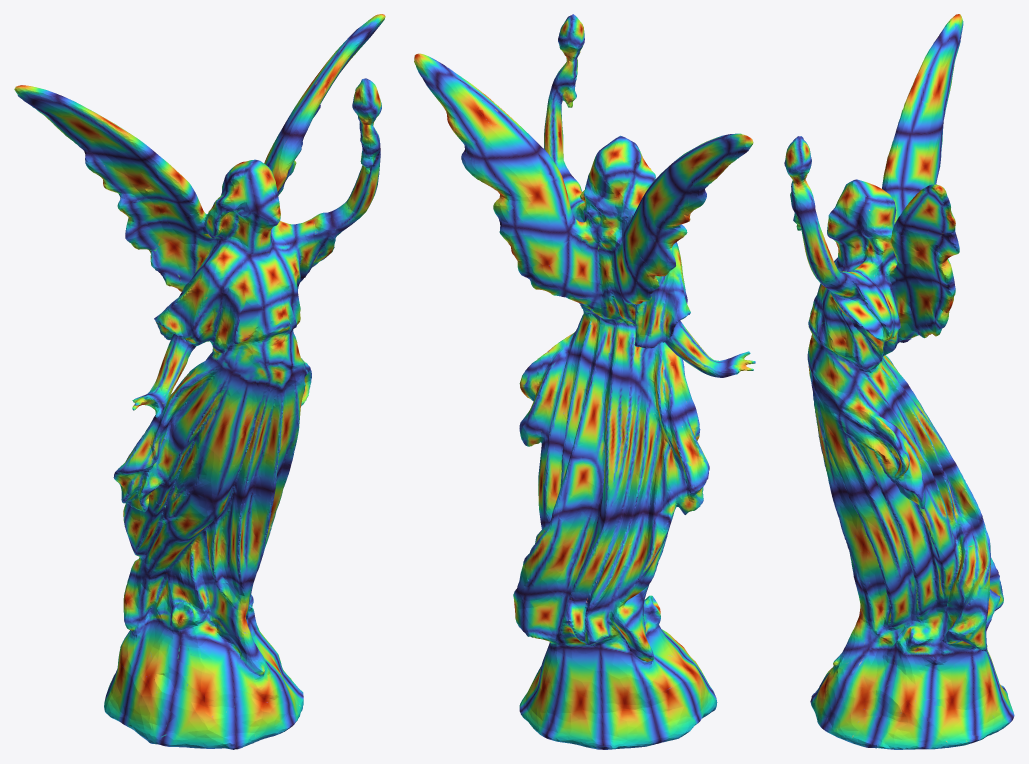
Rendered from gen0.glb.
The picture shows the model from 3 angles, left to right: view 1: azimuth 30°, elevation 25°; view 2: azimuth 150°, elevation 25°; view 3: azimuth 270°, elevation 25°; orthographic projection. The views are drawn at different scales.
Visible parts, largest first — view 1: Node; view 2: Node; view 3: Node.
Part boxes in pixels (x1,y1,x2,y2): Node: [14, 14, 385, 749]; Node: [414, 14, 755, 749]; Node: [784, 14, 1014, 749].
Size of the model in its own units: 919 by 1583 by 526.
Materials: 1 (1 with a texture image).
